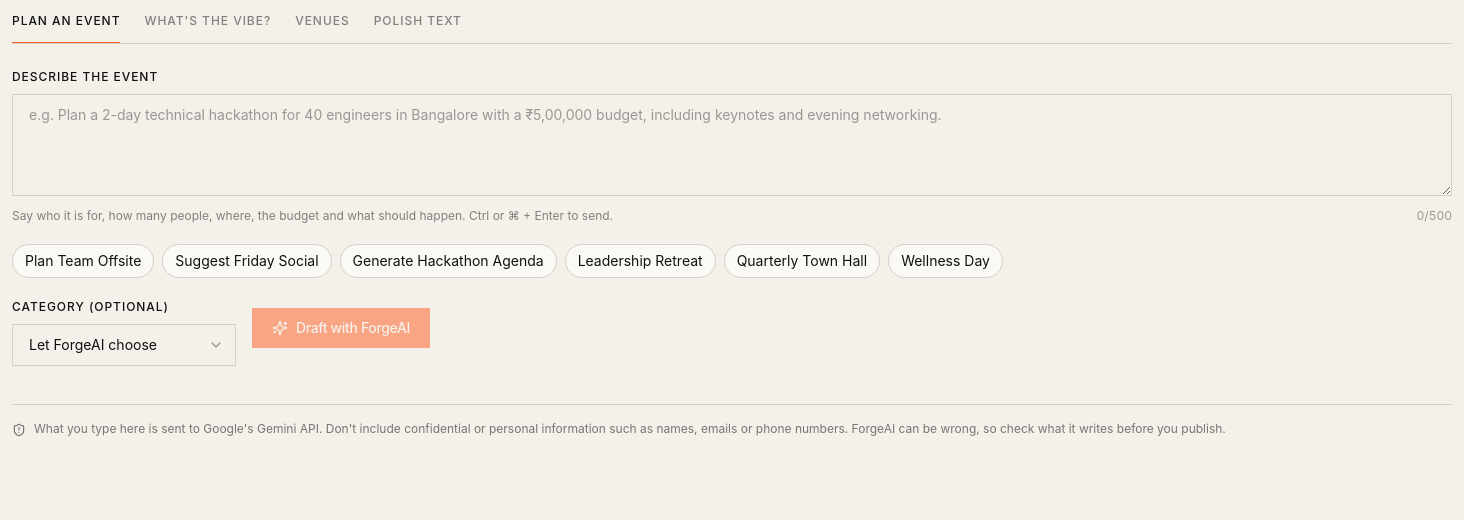
Test: ForgeAiPanel › Plan an event › says ForgeAI is busy on a 429
Type "A town hall" into the text box labelled "Describe the event" at (732, 145), box x1=12 y1=94 x2=1452 y2=196
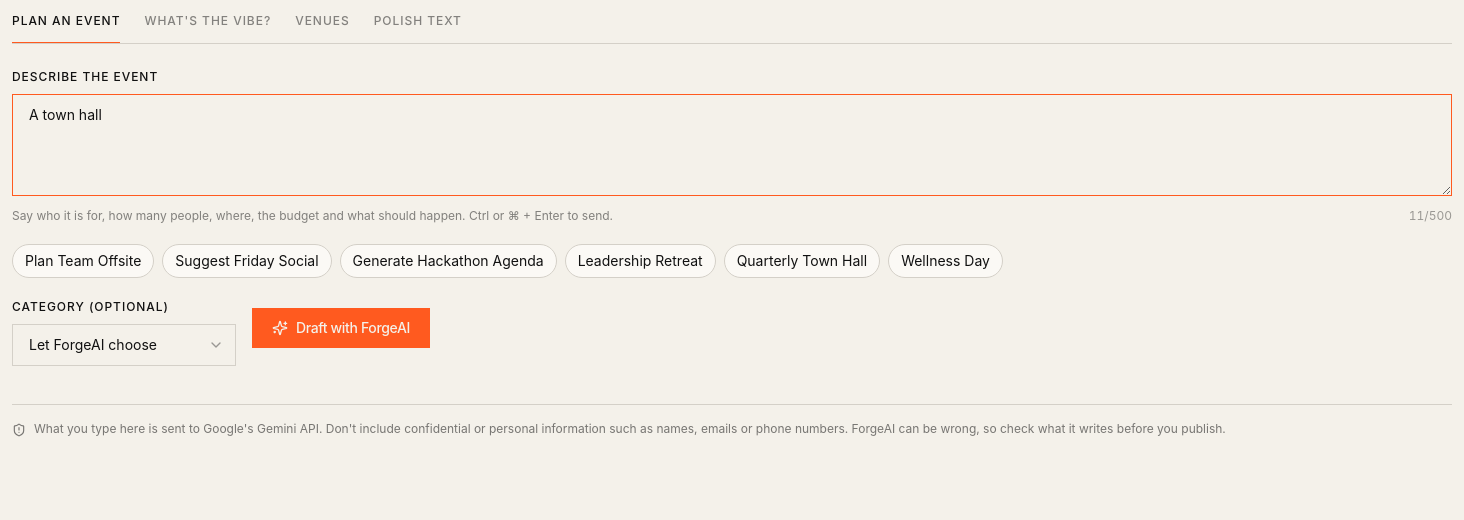
Click the button "Draft with ForgeAI" at (341, 328), box x1=252 y1=308 x2=430 y2=348
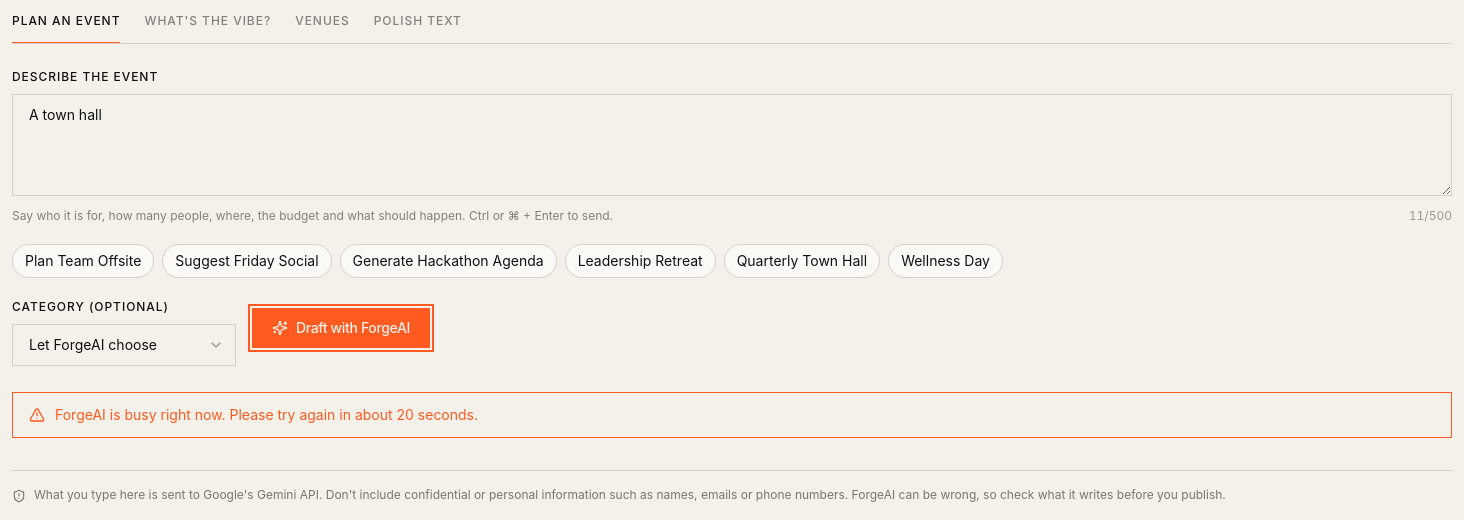
Check: the message reads "ForgeAI is busy right now. Please try again in about 20 seconds.", box x1=55 y1=406 x2=478 y2=423
